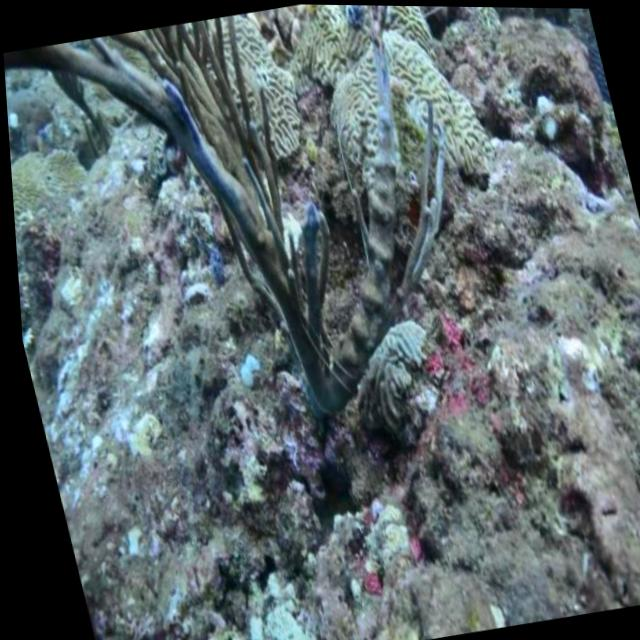Dead Coral: (37, 24, 516, 508)
